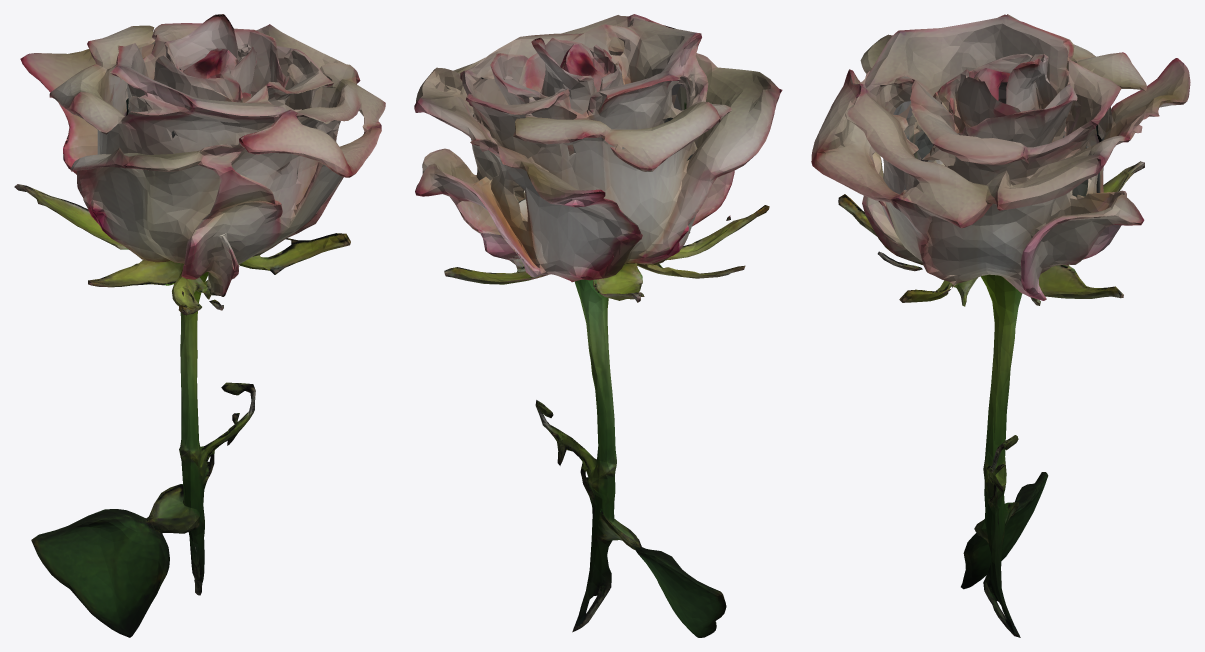
The picture shows the model from 3 angles, left to right: view 1: azimuth 30°, elevation 25°; view 2: azimuth 150°, elevation 25°; view 3: azimuth 270°, elevation 25°; orthographic projection. The views are drawn at different scales.
Parts seen in each view (by area): view 1: world; view 2: world; view 3: world.
Boxes of the visible parts, x1,y1,x2,y2 form: world: (14,14,385,637); world: (414,14,782,637); world: (811,14,1190,637).
Size of the model in its own units: 0.5569 by 0.9656 by 0.5592.
1 material, 1 textured.
